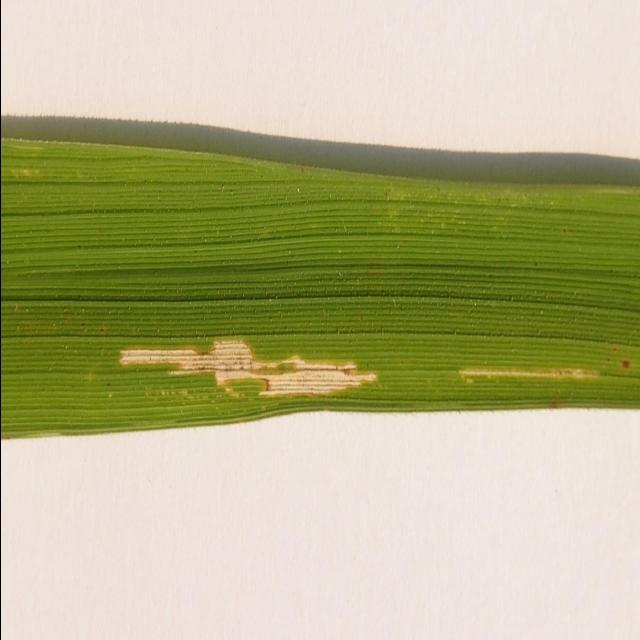Bacterial leaf blight: (0, 100, 640, 494)
